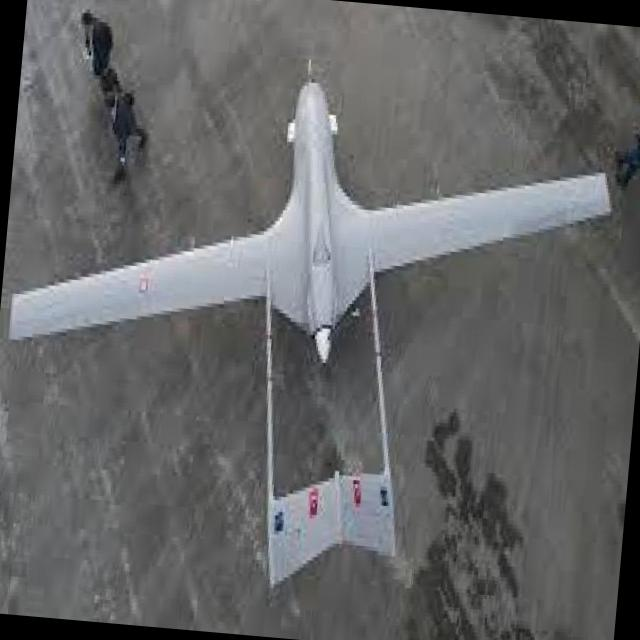UAV: (0, 82, 596, 562)
